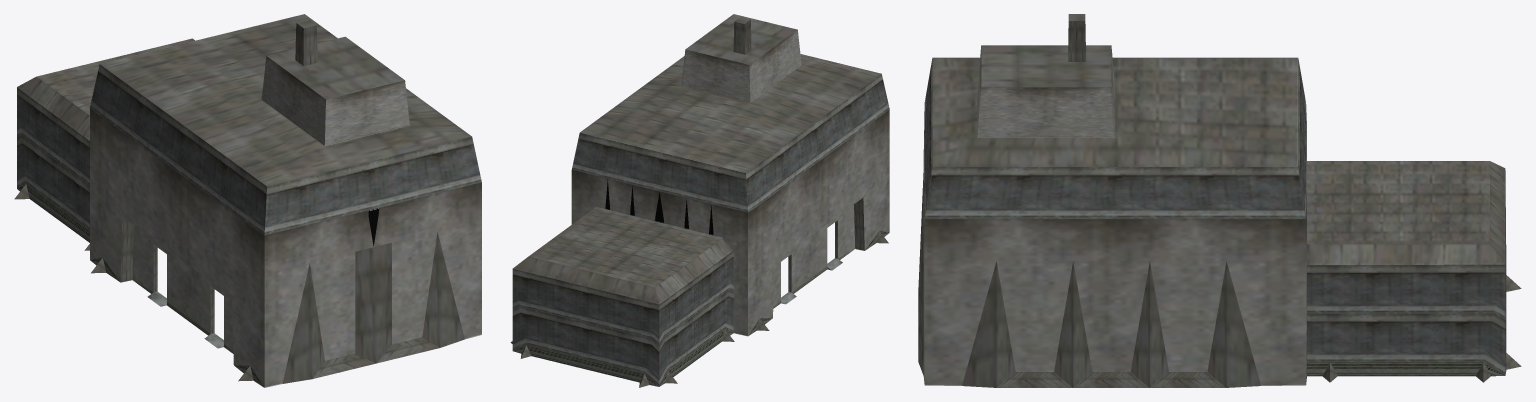
The model's file is thm_corl_imprv_slum_16x32_s01_r0_mesh_l3.fbx.
3 renders of one model, left to right at view 1: azimuth 30°, elevation 25°; view 2: azimuth 150°, elevation 25°; view 3: azimuth 270°, elevation 25°, orthographic. The views are drawn at different scales.
Visible parts, largest first — view 1: mesh_node; view 2: mesh_node; view 3: mesh_node.
Boxes of the visible parts, x1,y1,x2,y2 form: mesh_node: (14, 14, 481, 387); mesh_node: (510, 14, 889, 387); mesh_node: (918, 14, 1521, 387).
Bounding box in the file's own units: 15.44 × 17.95 × 31.48.
1 material, 1 textured.
